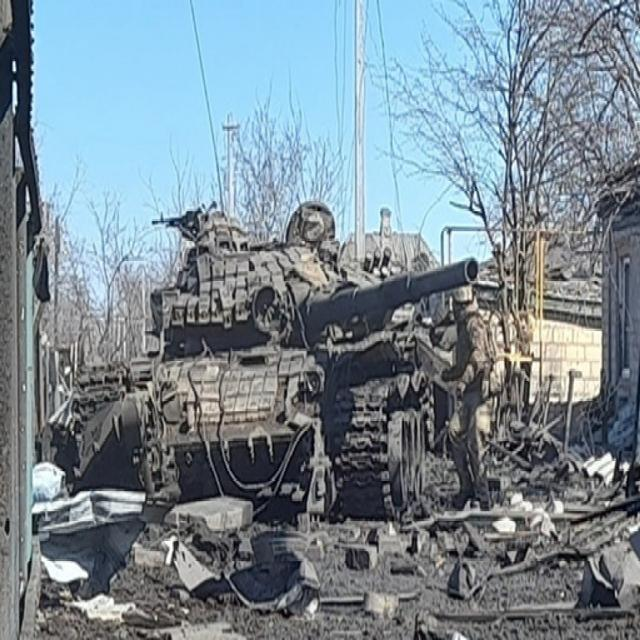TANK: (108, 220, 484, 524)
